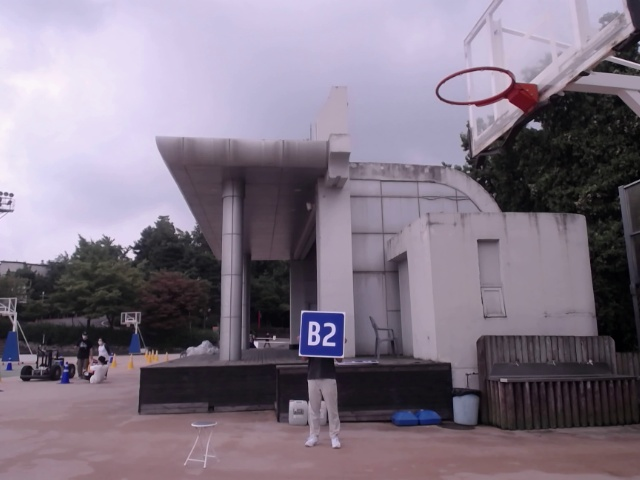delivery_b2: (298, 308, 346, 359)
